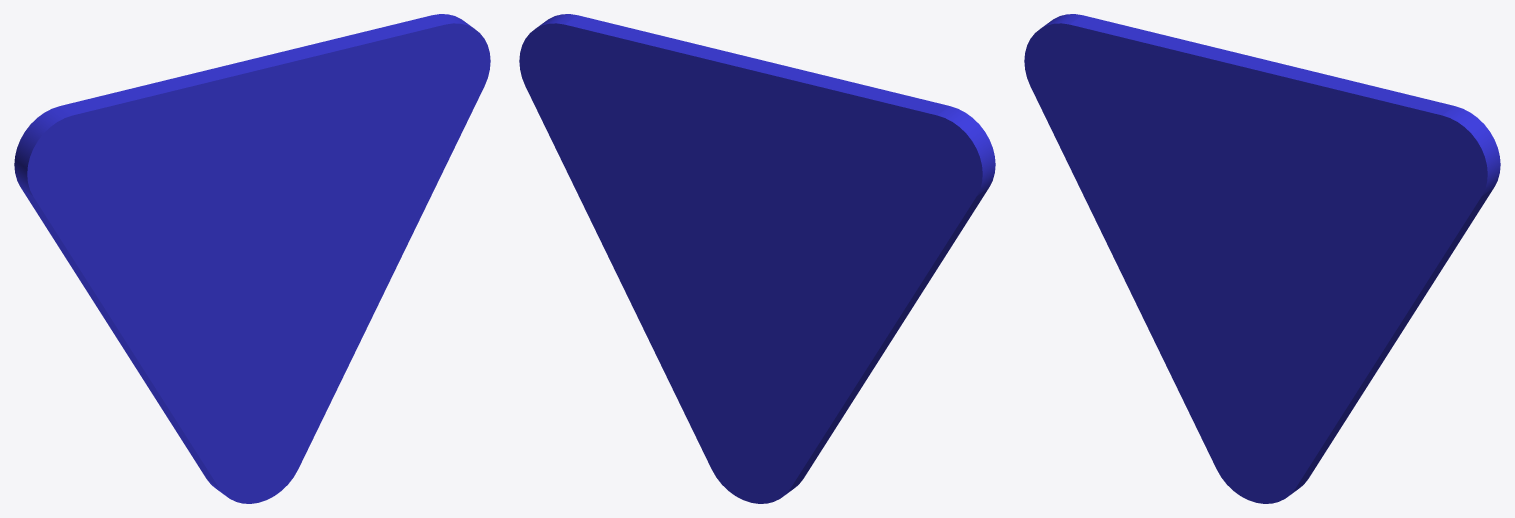
File: cones-indicator-triangle.dae
3 renders of one model, left to right at view 1: azimuth 30°, elevation 25°; view 2: azimuth 150°, elevation 25°; view 3: azimuth 330°, elevation 25°, orthographic.
Parts seen in each view (by area): view 1: SketchUp; view 2: SketchUp; view 3: SketchUp.
Part boxes in pixels (x1=…): SketchUp: x1=14, y1=14, x2=490, y2=503; SketchUp: x1=519, y1=14, x2=995, y2=503; SketchUp: x1=1024, y1=14, x2=1500, y2=503.
Size of the model in its own units: 30.29 by 1.46 by 27.03.
